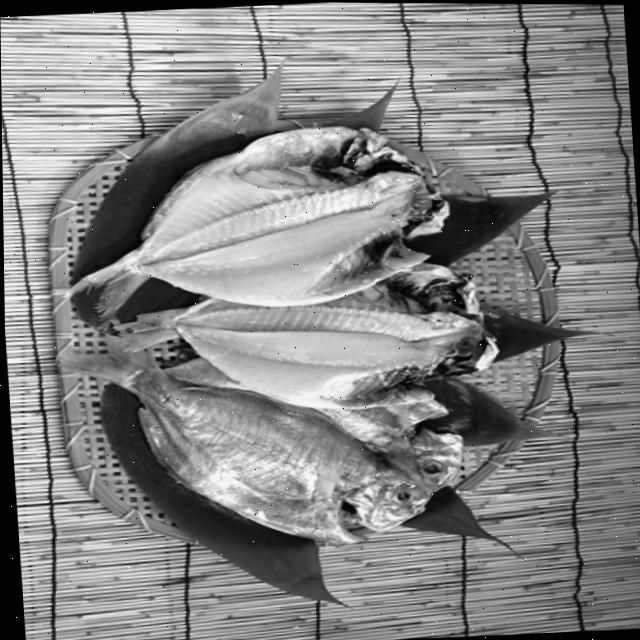熟制海鲜: (39, 107, 520, 567)
